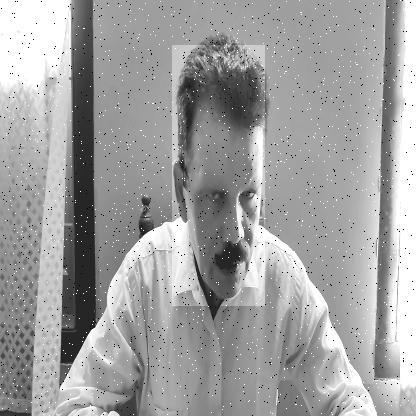Distracted: (172, 45, 265, 306)
